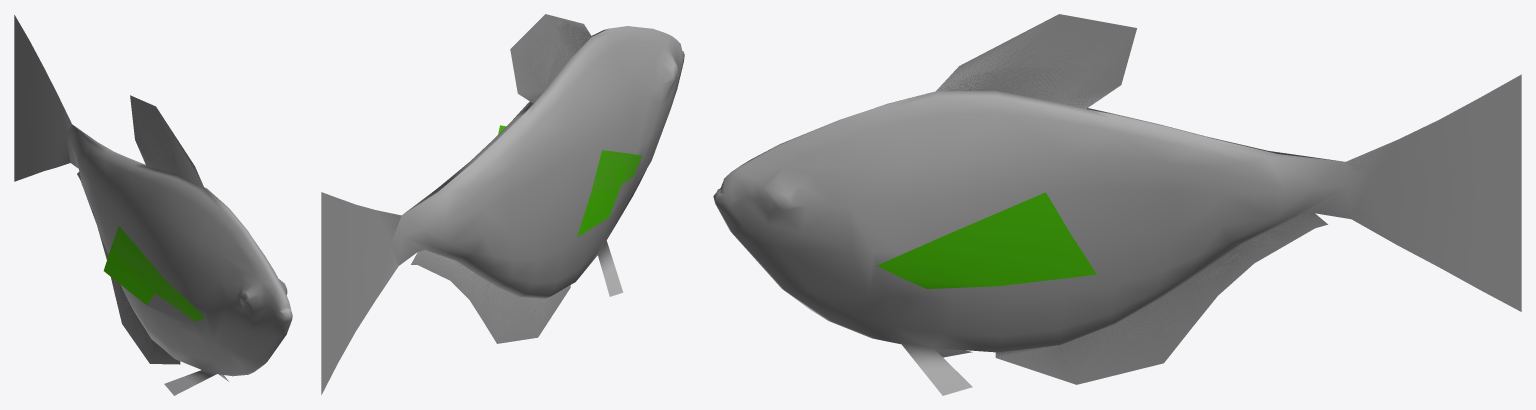
File: Pempheridae_A_S.fbx
The picture shows the model from 3 angles, left to right: view 1: azimuth 30°, elevation 25°; view 2: azimuth 150°, elevation 25°; view 3: azimuth 270°, elevation 25°; orthographic projection. The views are drawn at different scales.
Parts seen in each view (by area): view 1: Pempheridae_A_S_Mesh; view 2: Pempheridae_A_S_Mesh; view 3: Pempheridae_A_S_Mesh.
Part boxes in pixels (<box>): Pempheridae_A_S_Mesh: <box>14,15,292,395</box>; Pempheridae_A_S_Mesh: <box>321,14,684,394</box>; Pempheridae_A_S_Mesh: <box>713,14,1521,395</box>.
Bounding box in the file's own units: 0.00171 × 0.00508 × 0.01.
